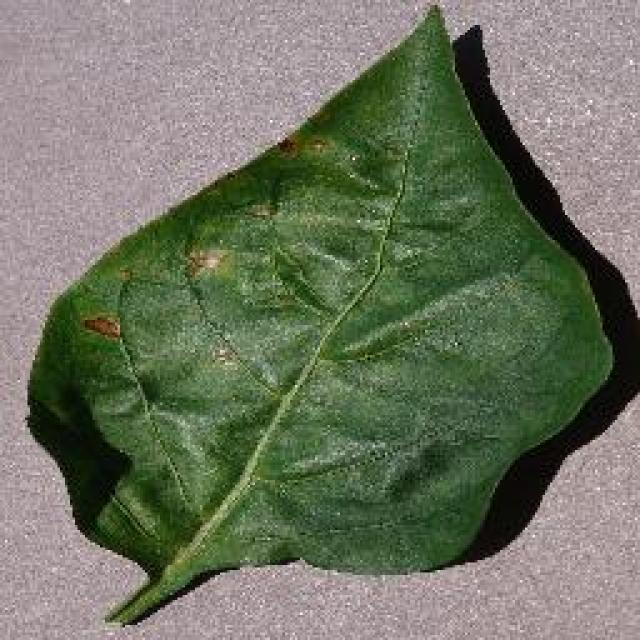Chilli_Bacterial_Spot: (22, 0, 620, 628), (72, 238, 240, 348), (180, 240, 235, 285), (78, 310, 122, 345), (240, 195, 280, 225), (205, 338, 240, 372), (272, 132, 300, 160), (302, 132, 330, 158)
